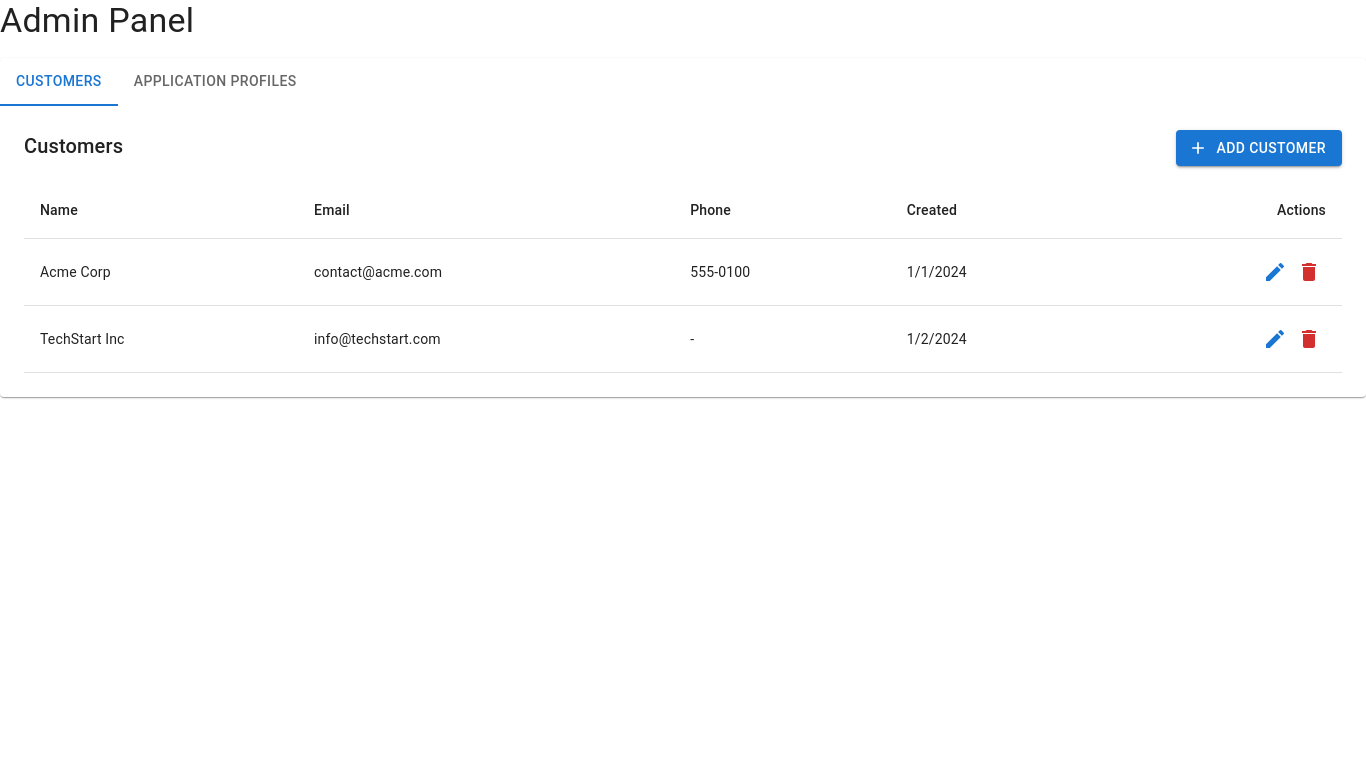
AdminView › opens customer dialog when add button clicked
The image size is (1366, 768).
Click the button "Add Customer": [1259, 148] box [1176,130,1342,166]
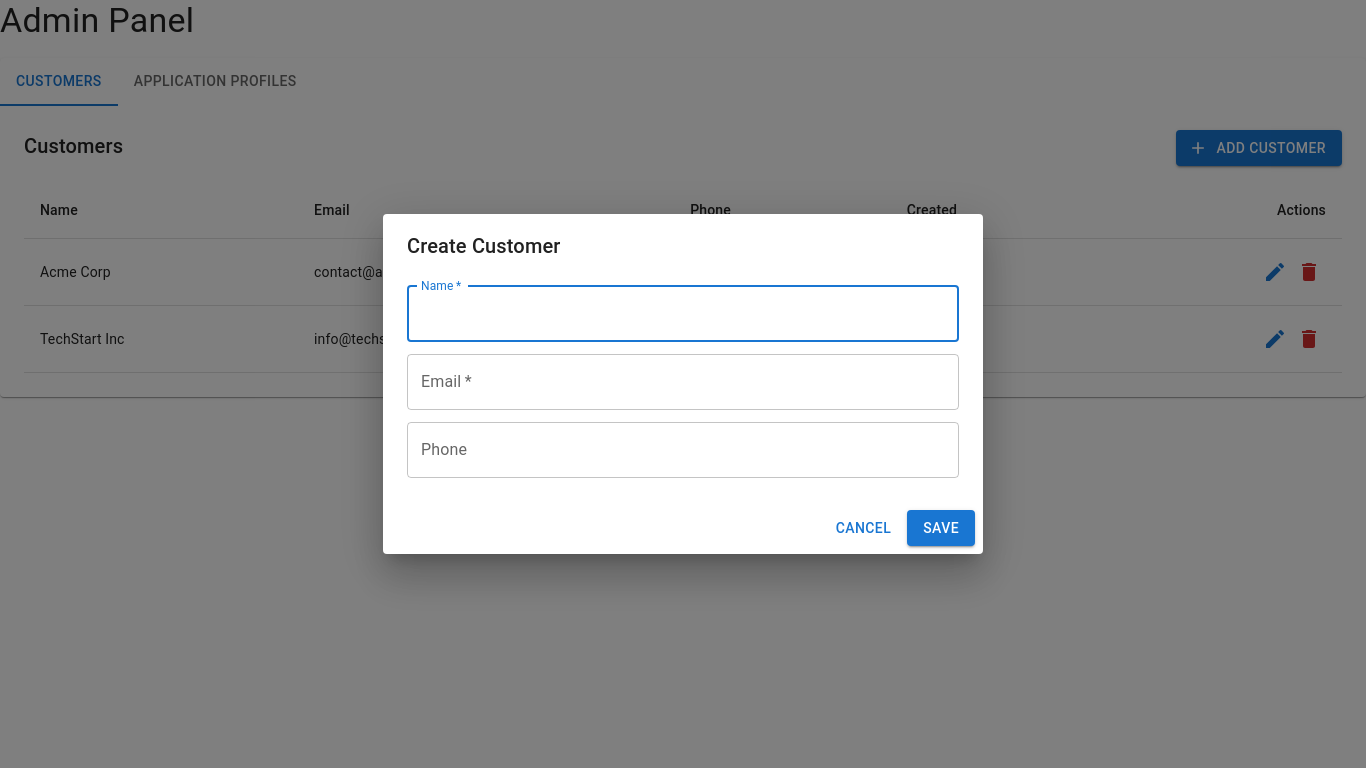
Check: the dialog is shown, box [383,214,983,554]
Check: the heading "Create Customer" is shown, box [407,234,560,258]
